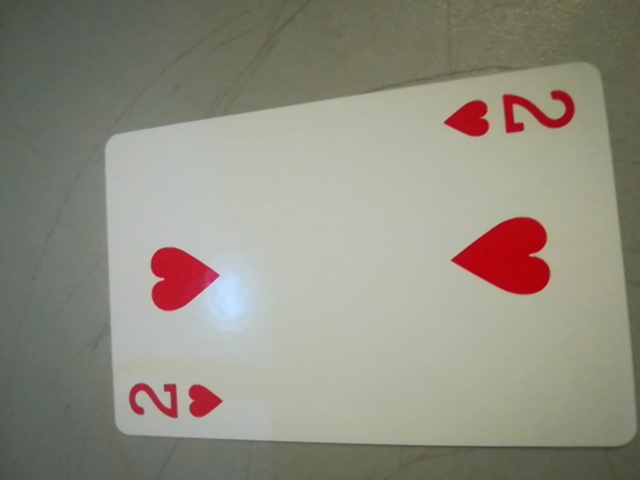hx 2: (452, 83, 589, 144)
